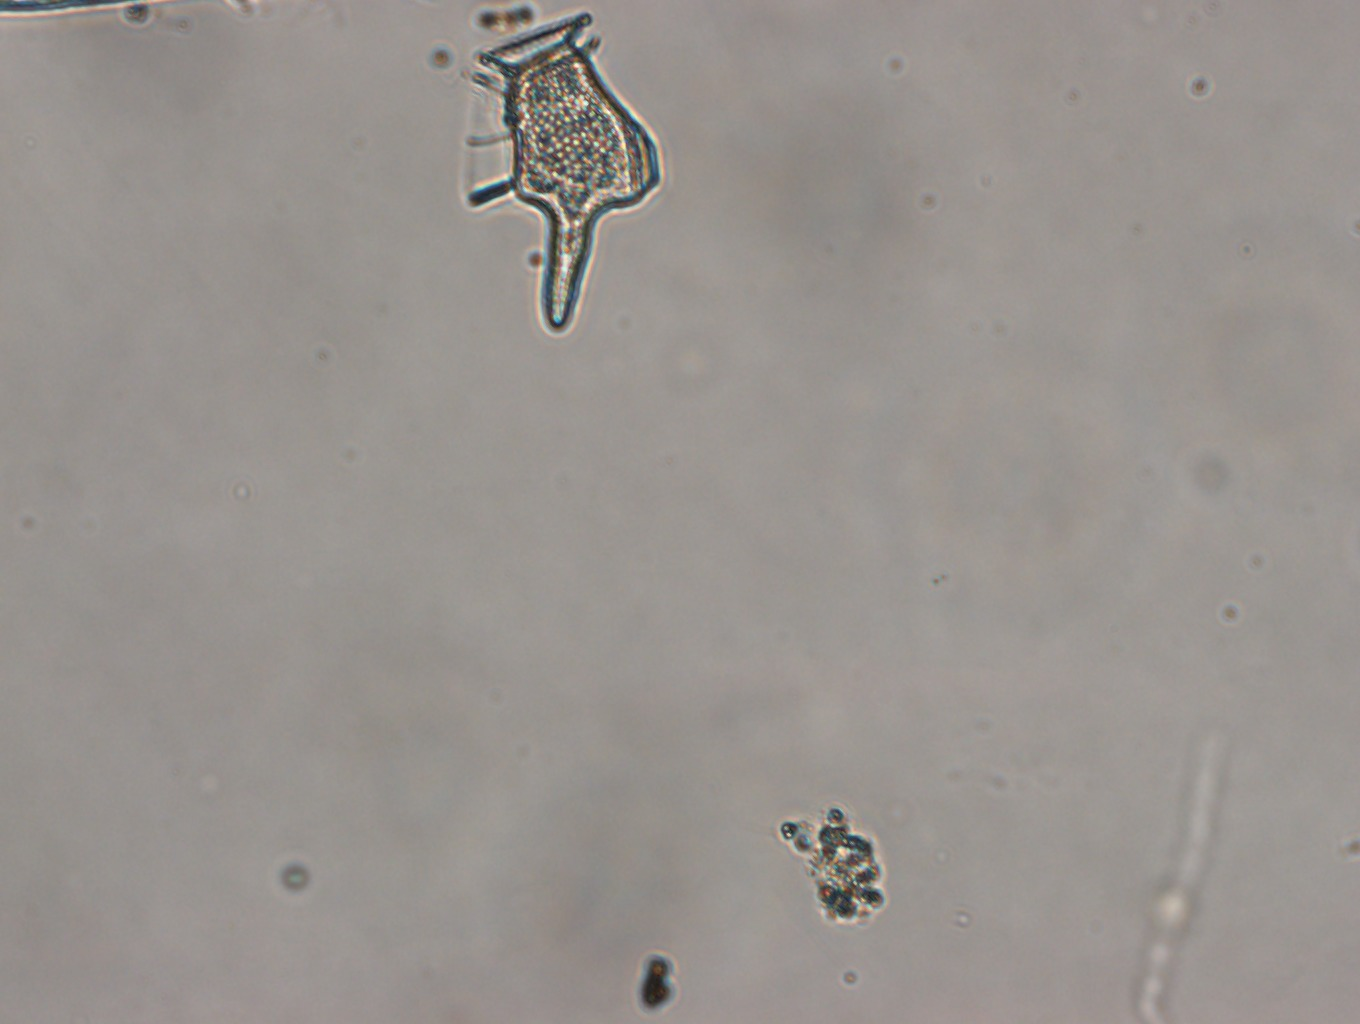dinophysis caudata: (456, 11, 665, 341)
